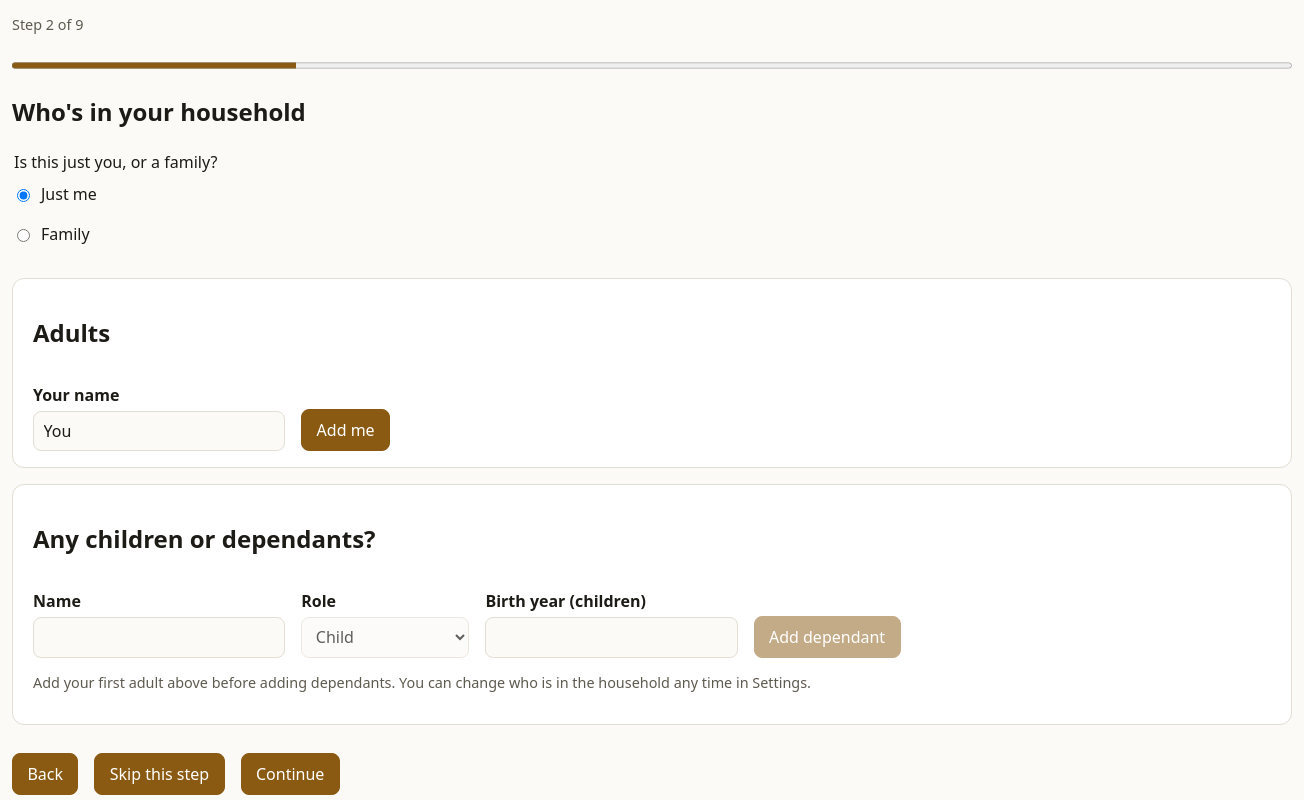
it: Continue on an empty household adds the signed-in adult as "You" first
Check: the field labelled "Your name" is shown, box 33,411 -> 285,451
Step 1. Click the button "Continue" → coordinates (290, 774), box 241,753 -> 340,795
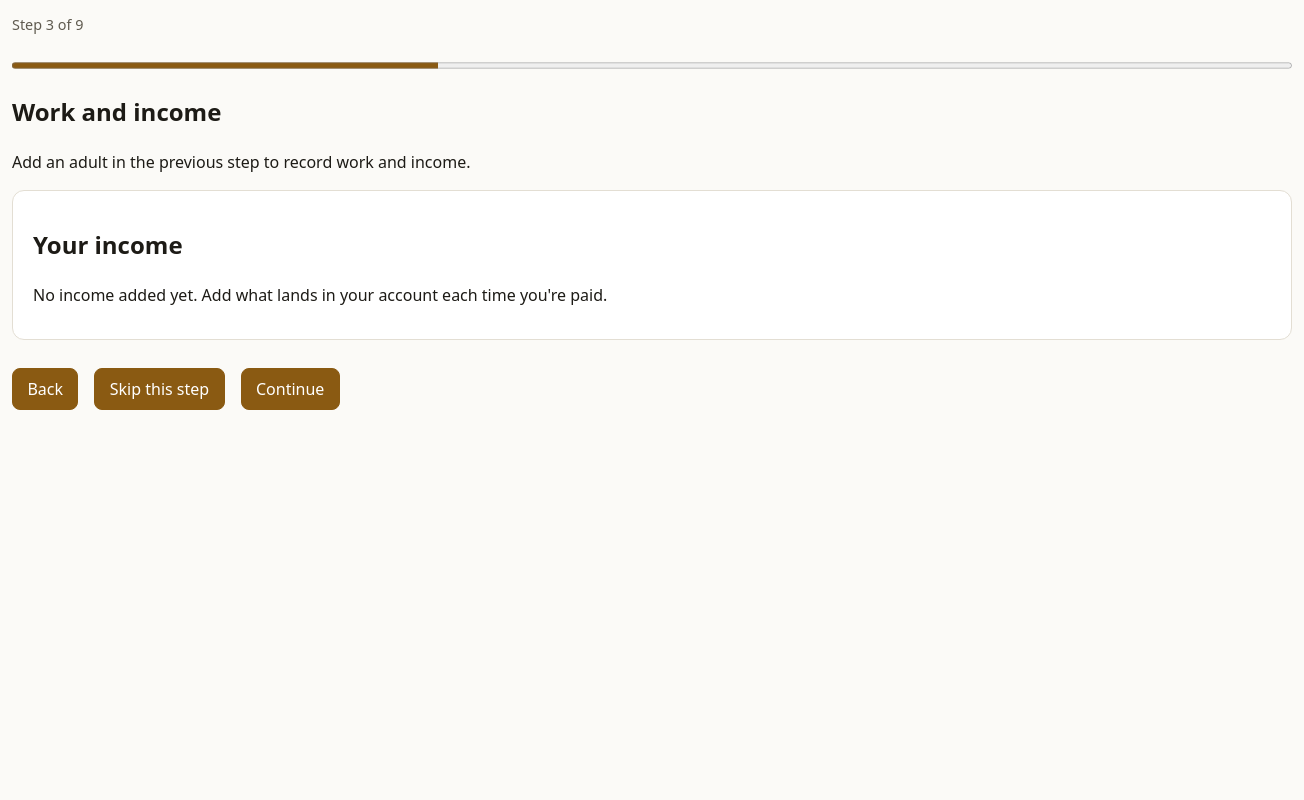
Check: the heading "Work and income" is shown, box 12,95 -> 221,128
